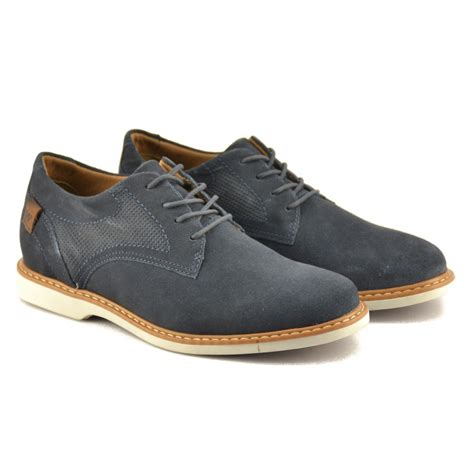gamuza: (81, 201, 447, 335)
